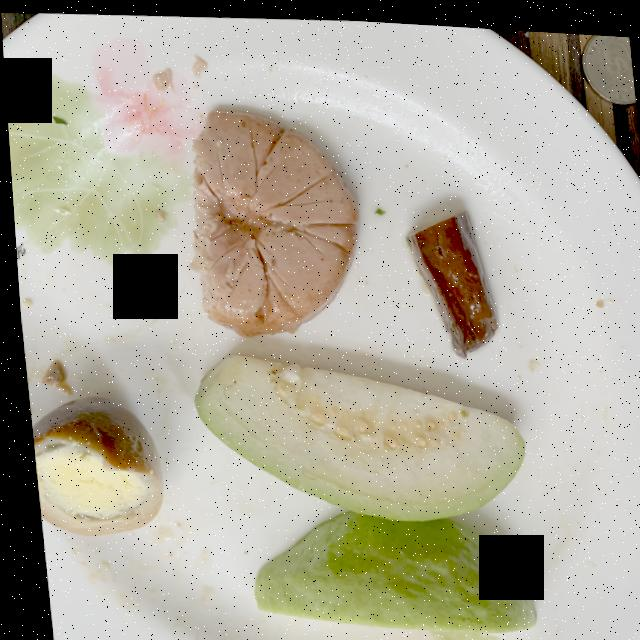Spam: (186, 107, 355, 333)
coin: (581, 28, 635, 95)
guava -sliced-: (188, 351, 527, 625)
soy egg: (26, 395, 156, 533)
